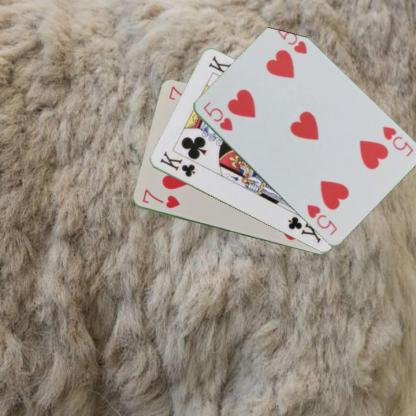5h: (380, 124, 414, 158), (200, 100, 233, 132)
7h: (140, 186, 182, 209)
Kc: (157, 148, 197, 178)
